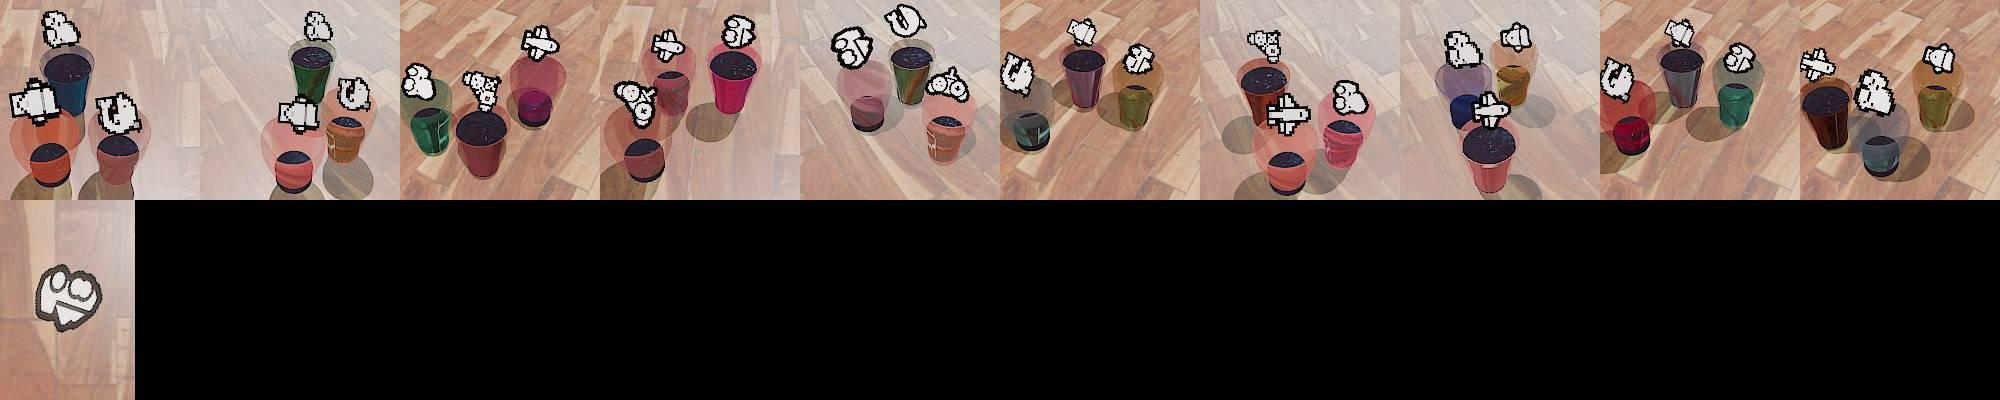icon: (32, 263, 104, 333), (8, 76, 63, 126), (93, 89, 144, 140), (1853, 68, 1897, 118), (612, 80, 657, 128), (1264, 93, 1314, 136), (277, 95, 324, 136), (831, 26, 874, 69), (460, 69, 502, 113), (924, 66, 970, 104), (41, 10, 82, 51), (1443, 29, 1483, 69), (1470, 90, 1511, 129), (883, 3, 927, 39), (1000, 51, 1035, 96), (520, 24, 561, 61), (1599, 57, 1633, 100), (1331, 78, 1370, 115), (1800, 47, 1837, 83), (720, 14, 758, 49), (402, 62, 437, 100), (336, 75, 372, 111), (1246, 28, 1283, 62), (1122, 43, 1156, 78), (652, 28, 686, 63), (1722, 42, 1757, 75), (1921, 43, 1956, 75), (1499, 21, 1534, 53), (1664, 17, 1696, 50), (302, 10, 333, 44), (1066, 18, 1098, 49)
